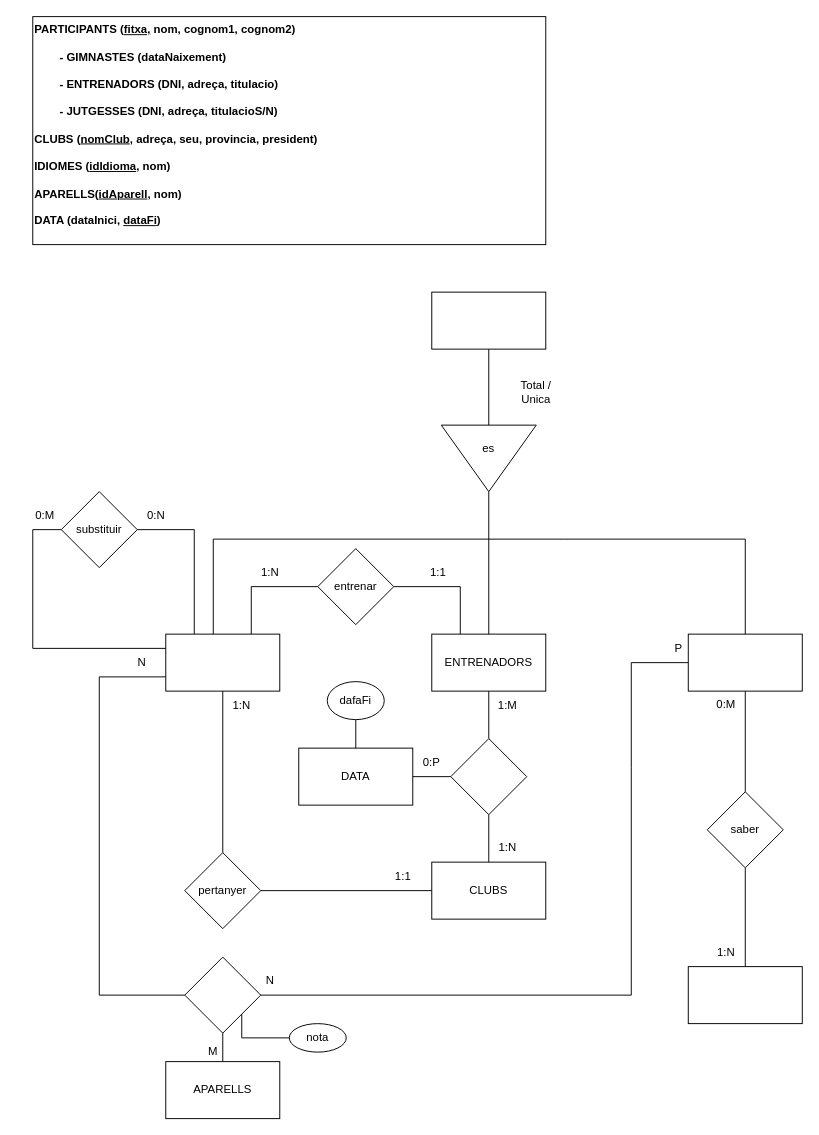
Some shapes in this 819 by 1135 pixel diagram are drawn without their labels. The shapes that lost their labels are listed below. From the top down, each one's centre as x and y in pixels, then its label:
At (488,320): "PARTICIPANTS".
At (222,662): "GIMNASTES".
At (744,662): "JUTGESSES".
At (488,776): "treballar".
At (222,994): "corografiar".
At (744,995): "IDIOMES".
